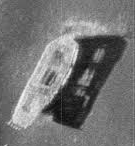ship: (8, 34, 79, 131)
